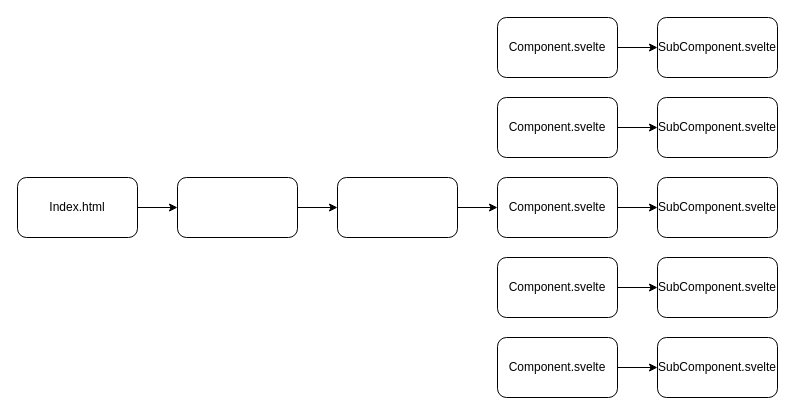
Image size: 795x415. Some labels were removed from this diagram. The shapes that lost their labels are listed below. From the top down, each one's centre as x and y in pixels, then its label:
At (237,207): "main.js".
At (397,207): "App.svelte".
